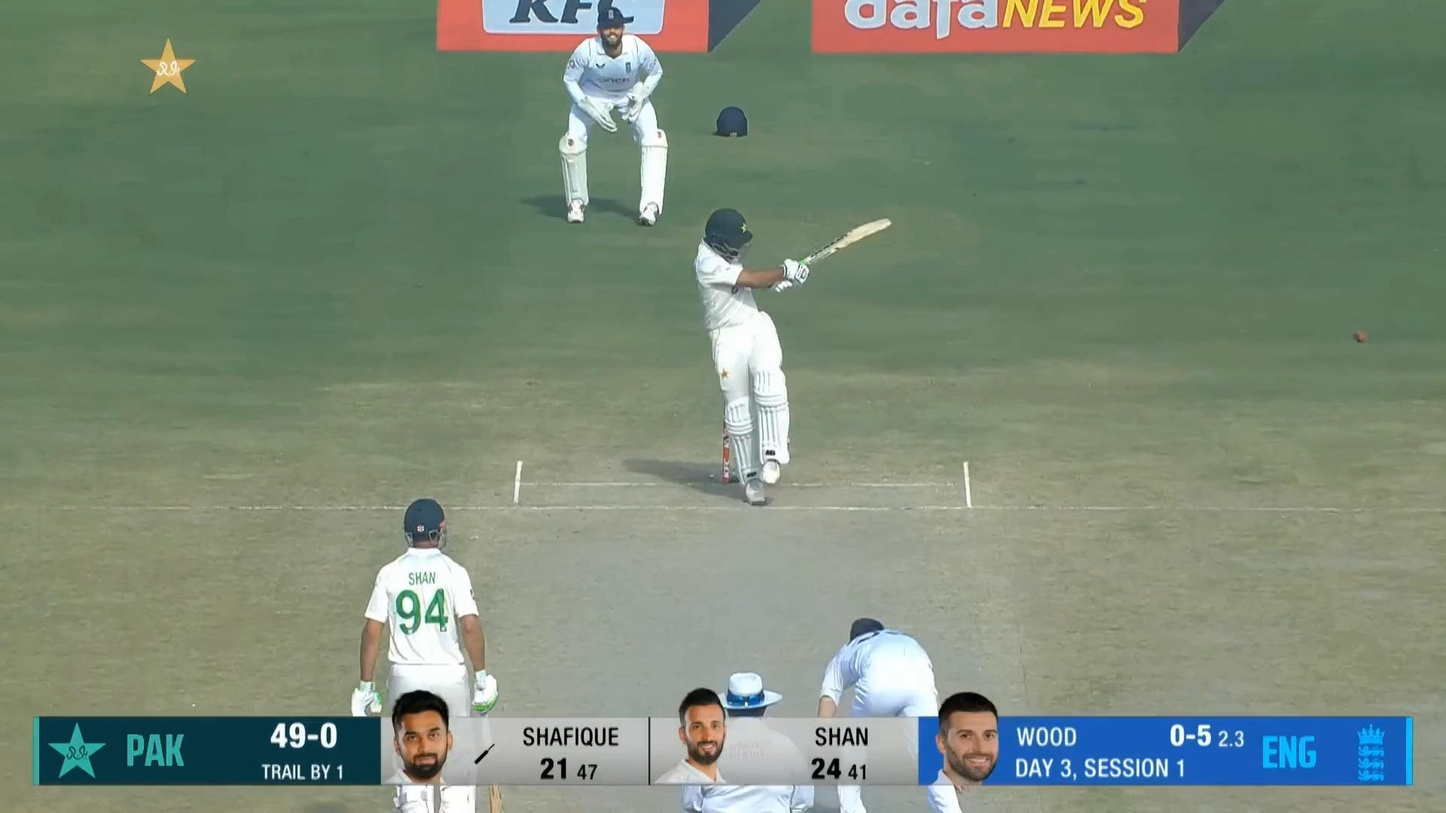BM 1: (692, 207, 894, 506)
BO: (816, 608, 964, 813)
